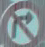Don't turn right: (1, 3, 42, 46)
